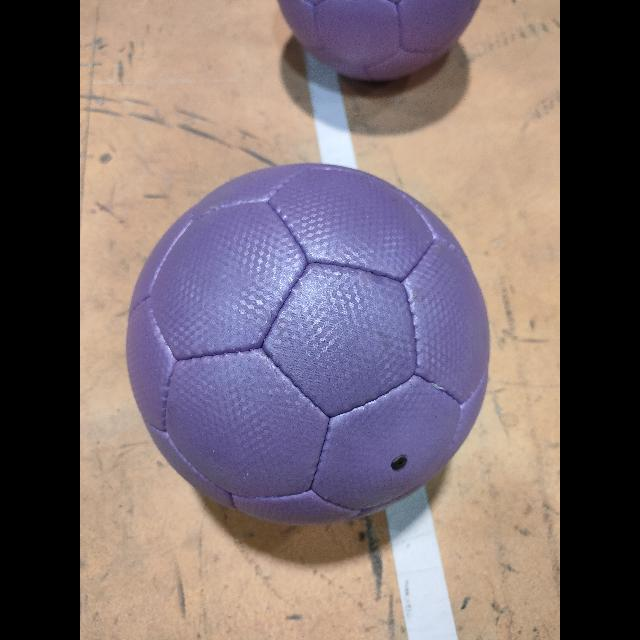P: (129, 163, 487, 525), (278, 0, 480, 80)
